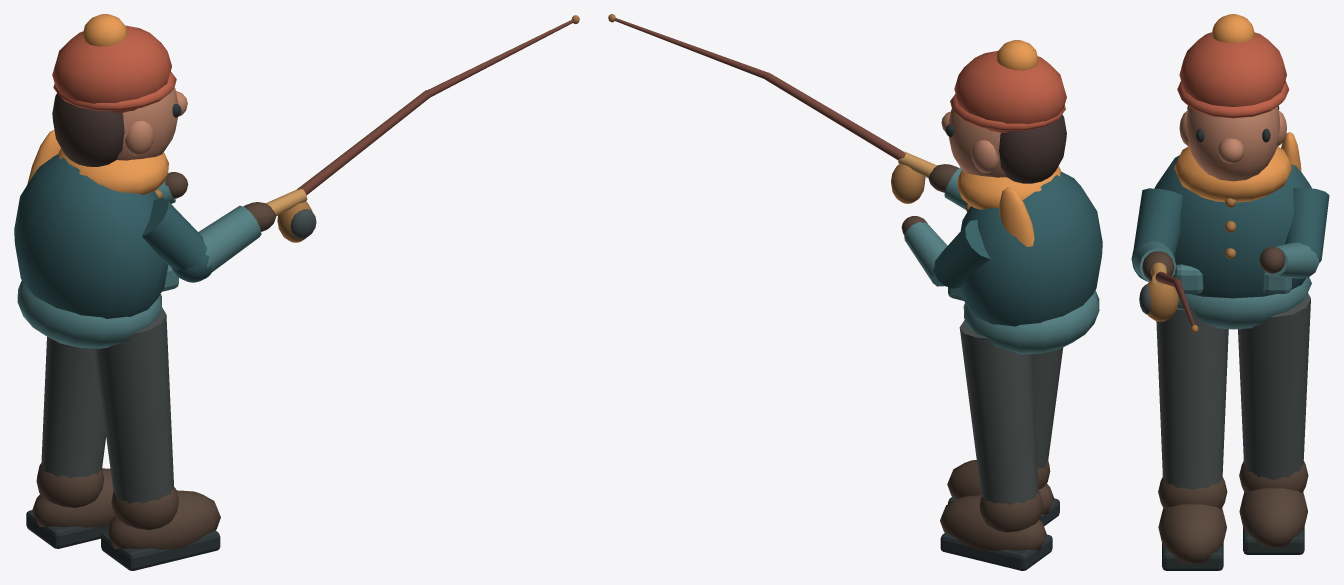
File: DockFisher.fbx
3 renders of one model, left to right at view 1: azimuth 30°, elevation 25°; view 2: azimuth 150°, elevation 25°; view 3: azimuth 270°, elevation 25°, orthographic. The views are drawn at different scales.
Parts seen in each view (by area): view 1: Weatherproof coat, Trouser leg, Trouser leg.001, Knit cap, Coat hem, Hair at nape, Boot toe, Rod sleeve upper, Scarf collar, Rod sleeve forearm, Boot toe.001, Face (+9 smaller); view 2: Weatherproof coat, Trouser leg.001, Knit cap, Coat hem, Hair at nape, Boot toe.001, Trouser leg, Support sleeve, Scarf collar, Boot sole.001, Face, Boot cuff.001 (+9 smaller); view 3: Trouser leg, Trouser leg.001, Weatherproof coat, Knit cap, Face, Boot toe, Boot toe.001, Scarf collar, Coat hem, Rod sleeve upper, Support sleeve, Boot cuff (+16 smaller).
Part boxes in pixels (box(x1,y1,x2,y2)): Weatherproof coat: box(14, 154, 168, 318); Trouser leg: box(94, 307, 174, 503); Trouser leg.001: box(41, 336, 106, 478); Knit cap: box(52, 25, 171, 112); Coat hem: box(17, 280, 161, 348); Hair at nape: box(52, 93, 124, 166); Boot toe: box(107, 490, 220, 549); Rod sleeve upper: box(142, 198, 207, 270); Scarf collar: box(58, 148, 168, 194); Rod sleeve forearm: box(198, 205, 261, 271); Boot toe.001: box(32, 468, 114, 527); Face: box(116, 87, 178, 160); Weatherproof coat: box(960, 172, 1102, 326); Trouser leg.001: box(959, 320, 1038, 504); Knit cap: box(954, 51, 1066, 132); Coat hem: box(963, 290, 1099, 354); Hair at nape: box(999, 114, 1066, 183); Boot toe.001: box(940, 495, 1046, 550); Trouser leg: box(1032, 347, 1063, 468); Support sleeve: box(933, 219, 990, 288); Scarf collar: box(957, 166, 1061, 209); Boot sole.001: box(940, 532, 1052, 570); Face: box(948, 109, 1006, 177); Boot cuff.001: box(979, 491, 1042, 532); Trouser leg: box(1156, 307, 1228, 489); Trouser leg.001: box(1238, 292, 1310, 479); Weatherproof coat: box(1154, 155, 1311, 298); Knit cap: box(1179, 32, 1286, 106); Face: box(1186, 106, 1280, 181); Boot toe: box(1158, 504, 1226, 565); Boot toe.001: box(1239, 488, 1307, 548); Scarf collar: box(1174, 146, 1292, 202); Coat hem: box(1178, 277, 1311, 329); Rod sleeve upper: box(1133, 188, 1182, 255); Support sleeve: box(1285, 187, 1329, 262); Boot cuff: box(1158, 477, 1227, 508).
Bounding box in the file's own units: 1.86 × 1.78 × 0.6108.
